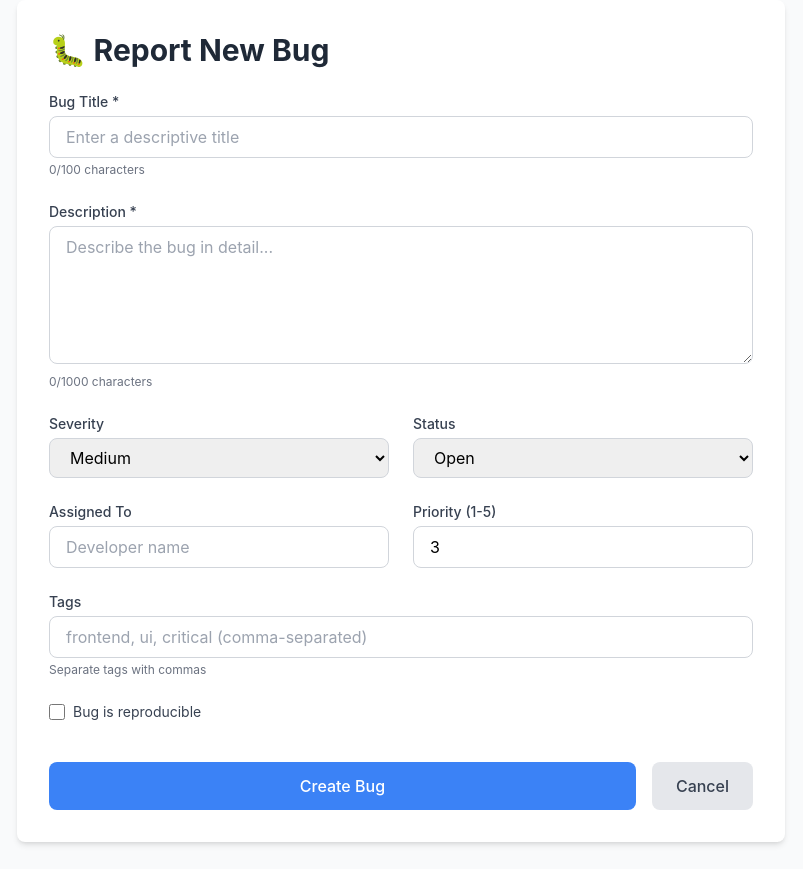
it: BugForm Component › displays error message on submission failure
Type "Test Bug" into the field labelled "Bug Title *" at (401, 137), box [49, 116, 753, 158]
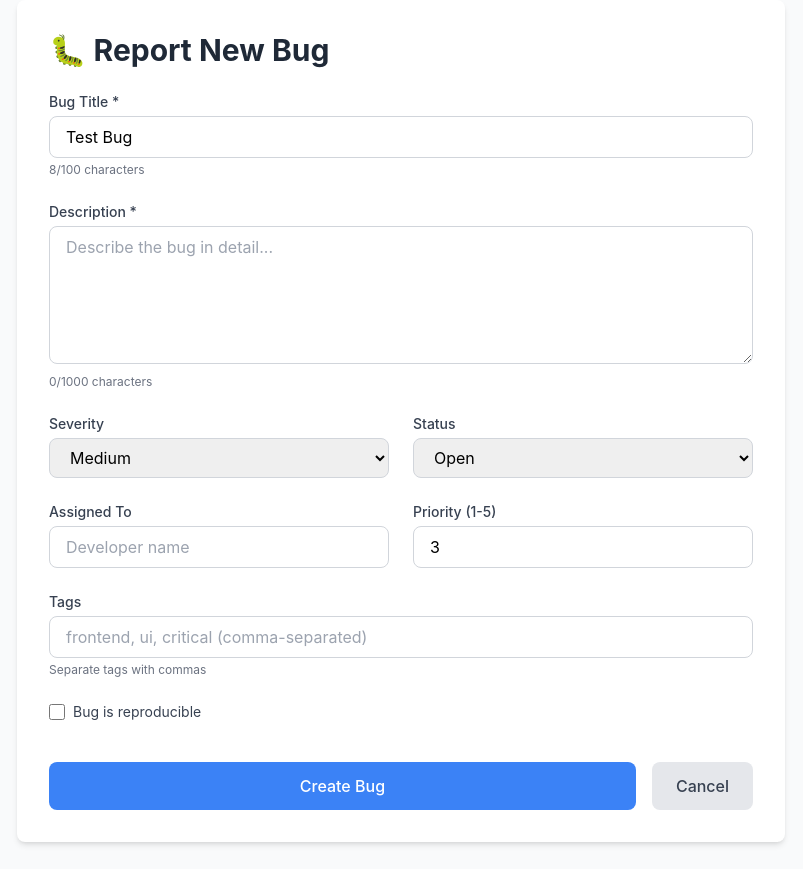
Type "Test Description" into the text box labelled "Description *" at (401, 295), box [49, 226, 753, 364]
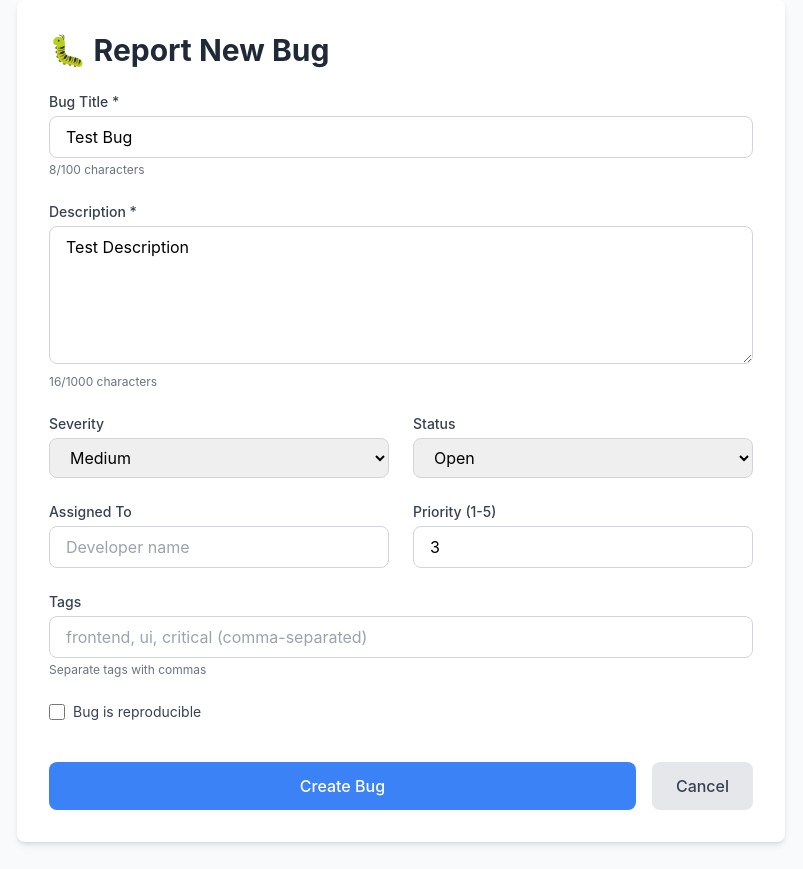
Click the button "Create Bug" at (342, 786), box [49, 762, 636, 810]
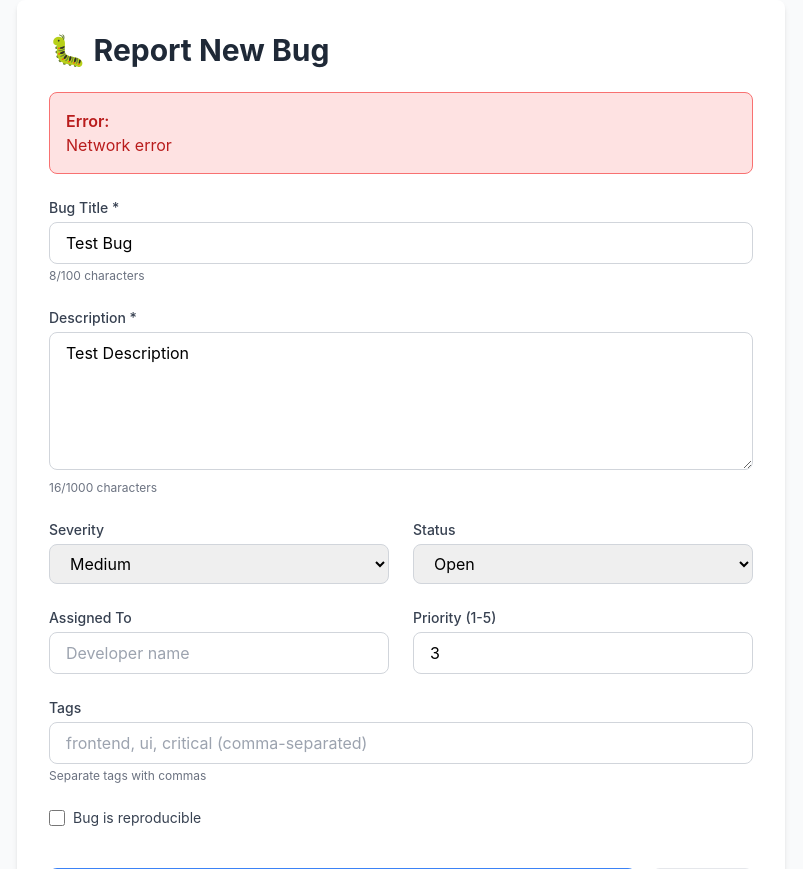
Expected: the text "Network error" is shown, [66, 135, 172, 155]
